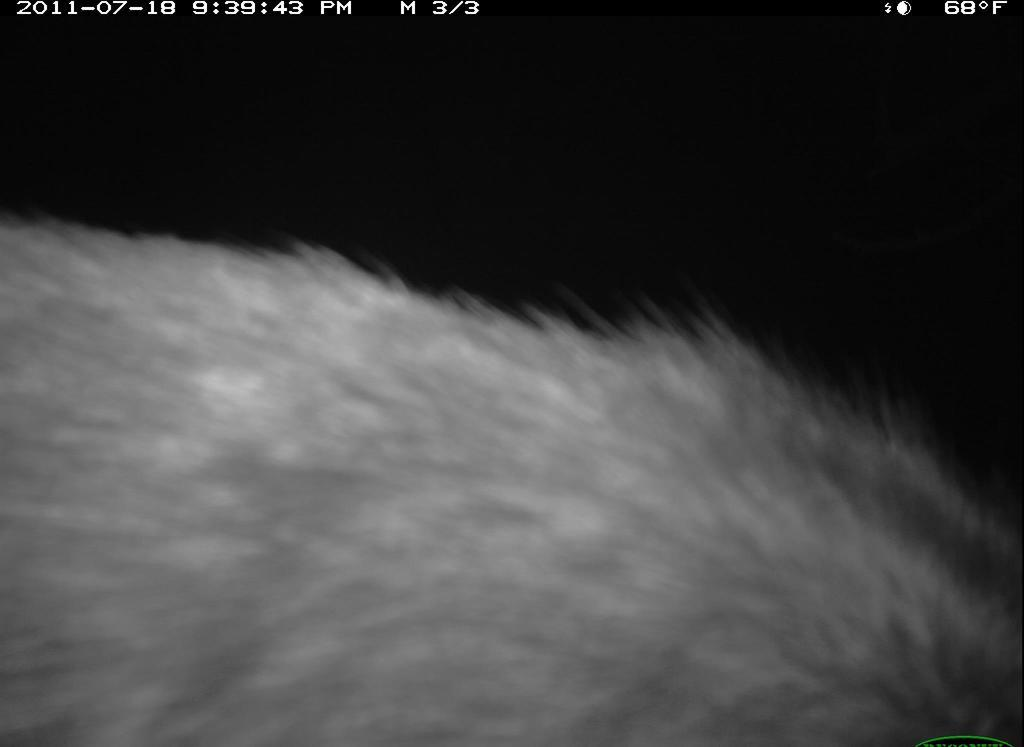raccoon: (4, 212, 1019, 747)
